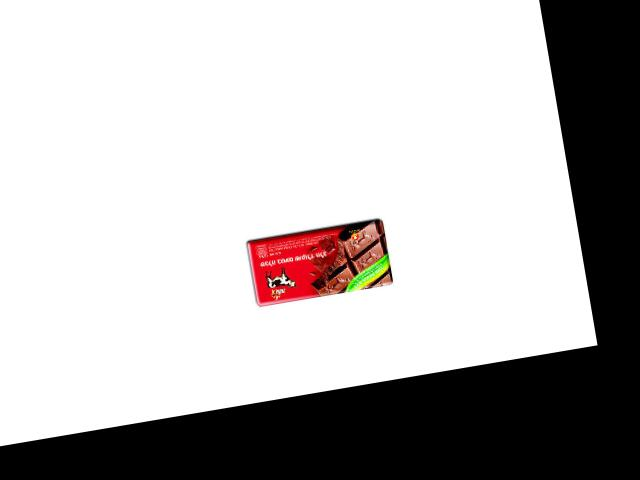chocolate: (240, 211, 394, 310)
